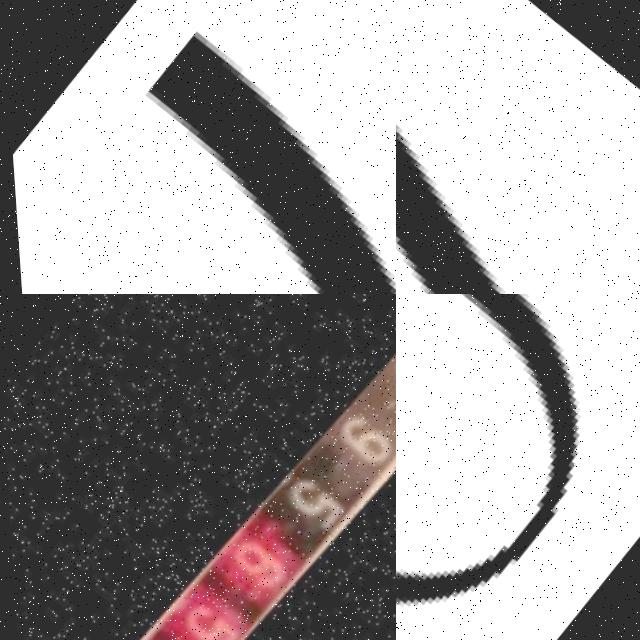1: (380, 350, 396, 422)
5: (273, 470, 350, 546), (166, 593, 243, 640)
6: (217, 531, 291, 605)
7: (42, 0, 396, 294)
9: (323, 407, 396, 484)
D: (396, 0, 640, 294)
Q: (396, 294, 640, 640)
